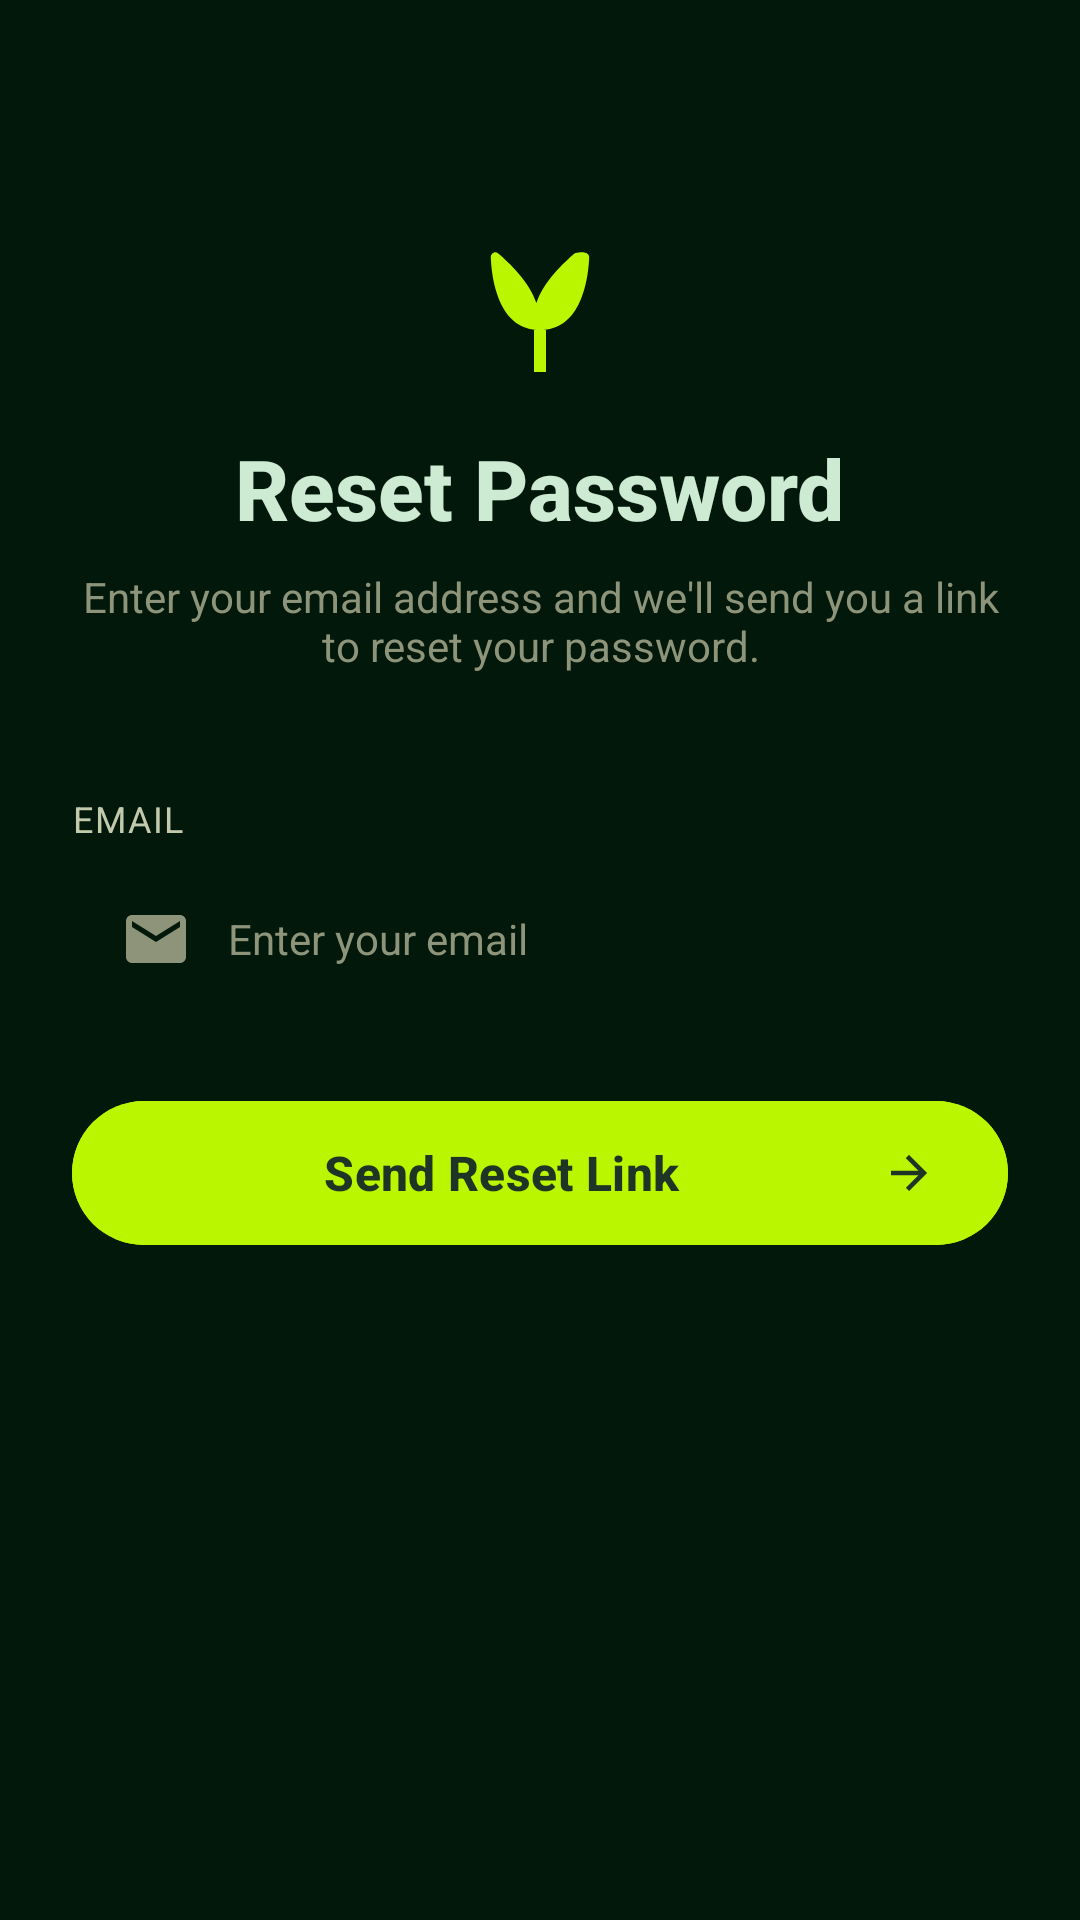

Screen size 1080*1920. Icon name, then its box in pixels as (x1, y1, x2, y2):
Food Share & Track: (490, 252, 590, 372)
